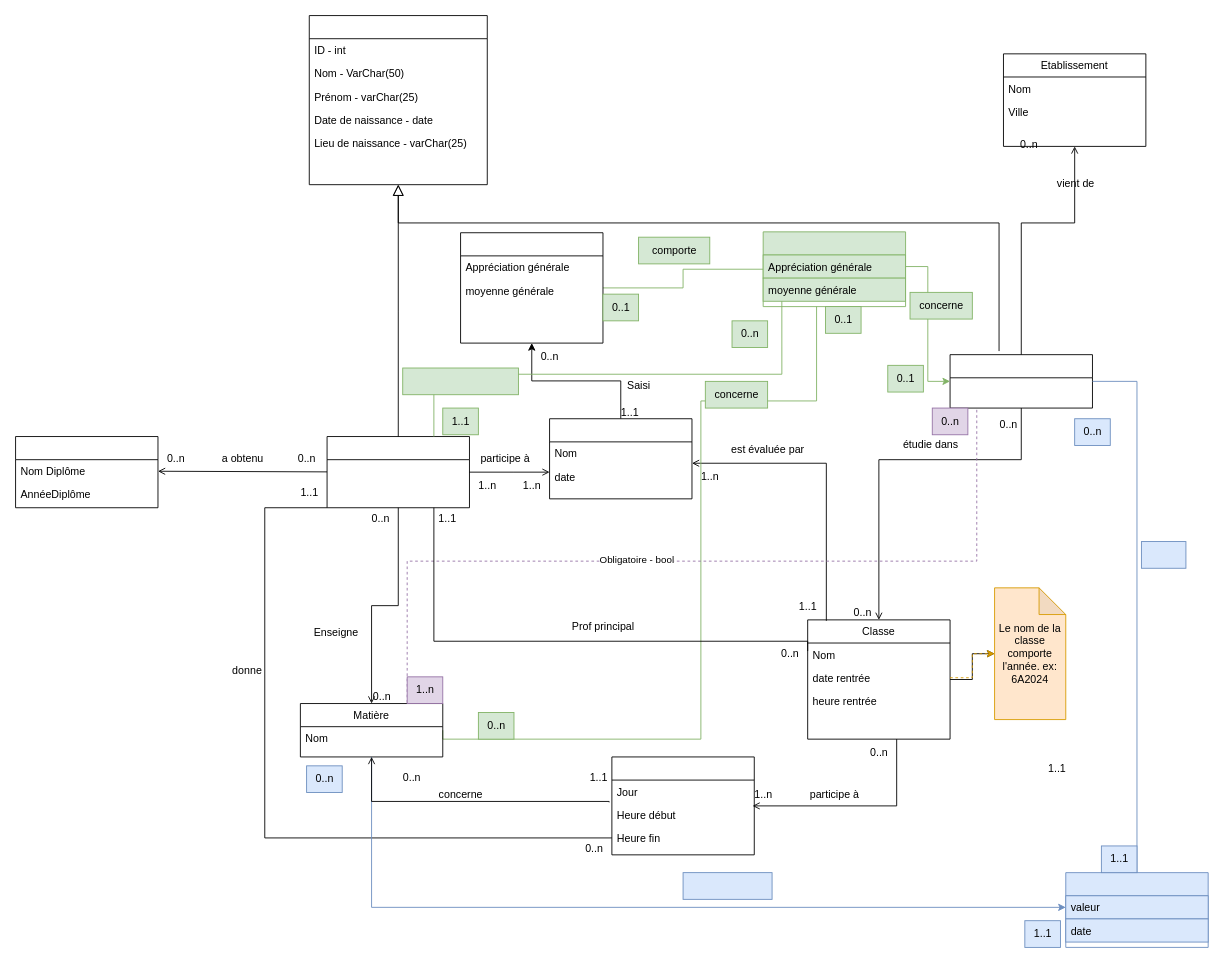
Some shapes in this 1224 by 963 pixel diagram are drawn without their labels. Here are the shapes that lost their labels. From the top down, the box of each, then its label:
(308, 15, 487, 185): Personne
(460, 232, 603, 343): bulletin
(762, 231, 906, 307): bulletin/matière
(402, 367, 518, 395): rédige l'appréciation
(949, 354, 1092, 408): Eleve
(15, 436, 158, 508): Diplome
(326, 436, 469, 508): Professeur
(549, 418, 692, 499): Conseil de classe
(1141, 541, 1186, 568): reçoit
(611, 756, 754, 855): Cours
(682, 872, 772, 899): correspond à
(1065, 872, 1208, 947): note
